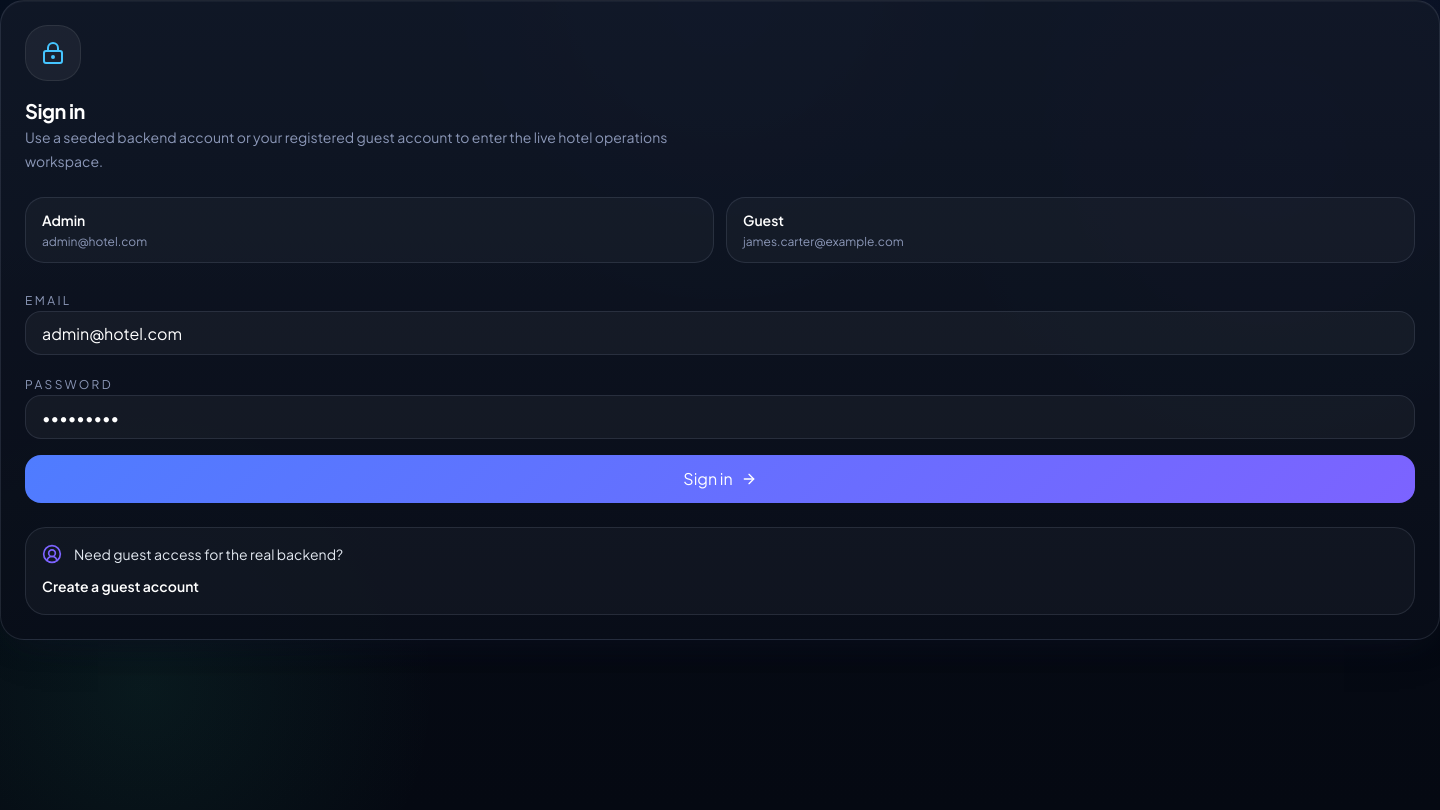
it: frontend components › login form renders server error state
Click the button "Sign in": (720, 479) [25, 455, 1415, 503]
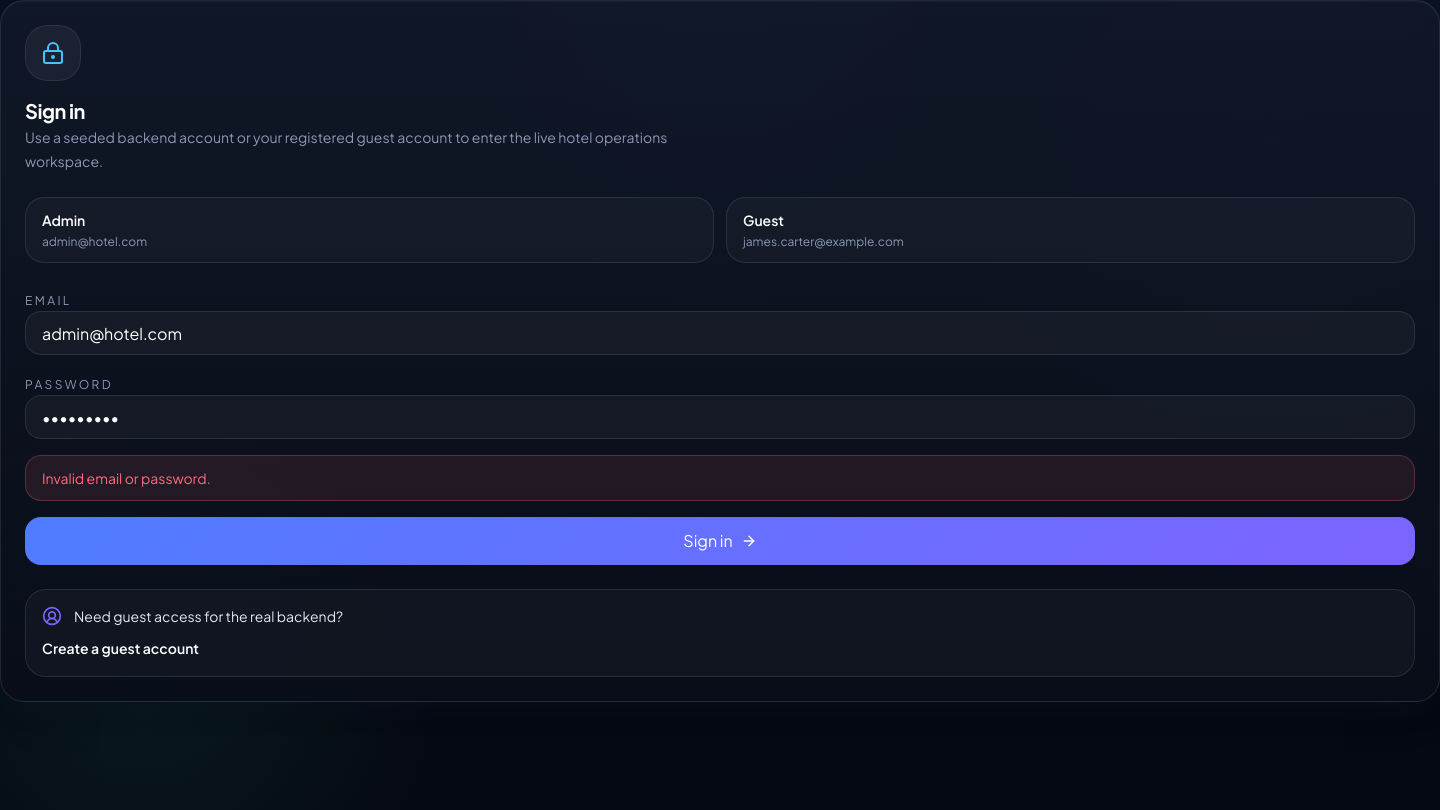
Result: the text "Invalid email or password." is shown at [25, 455, 1415, 501]
